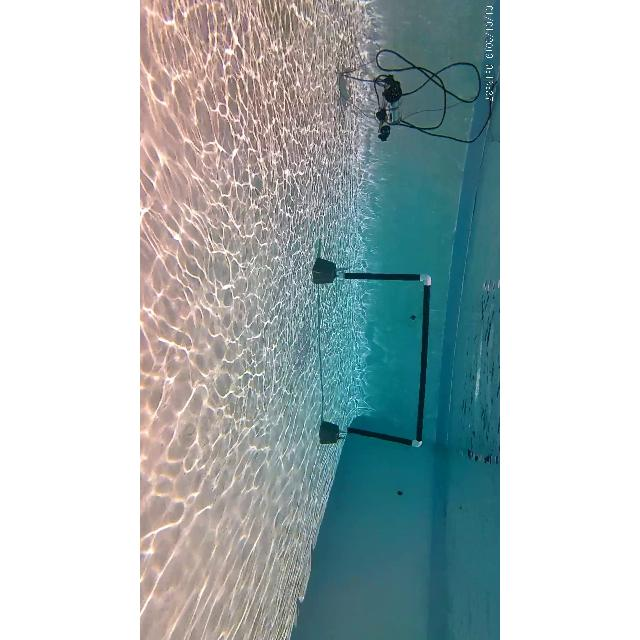prequal gate: (336, 272, 432, 450)
prequal gate leg l: (334, 264, 436, 288)
prequal gate leg r: (336, 419, 429, 453)
